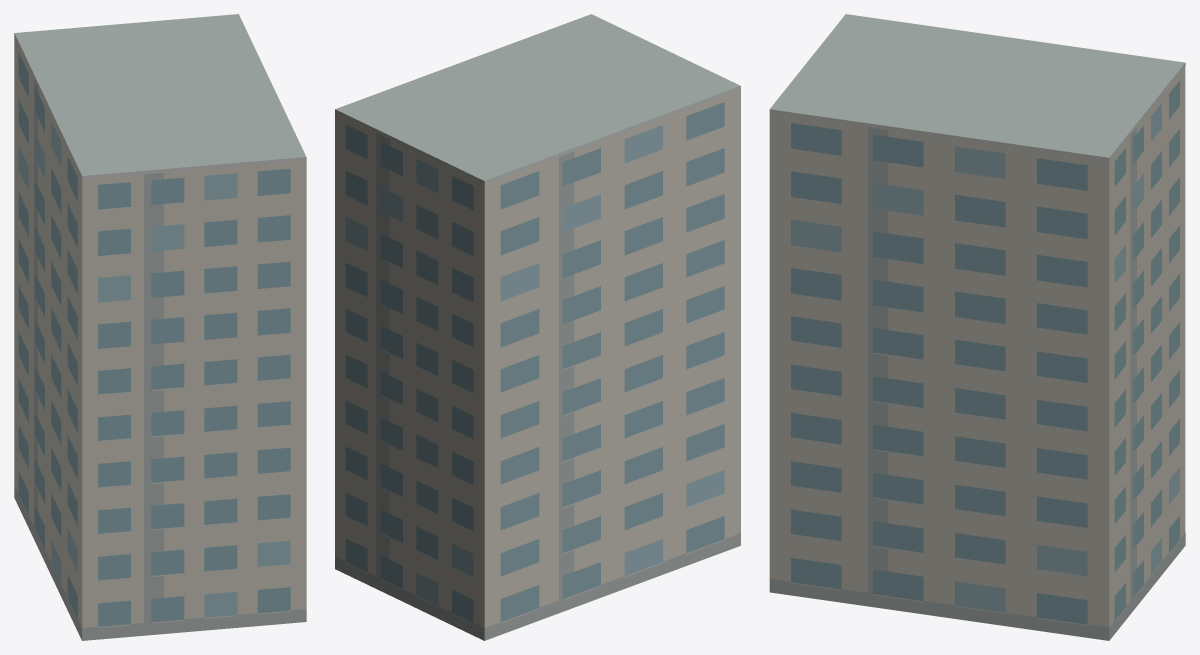
Rendered from residential-0fd62d5b-992b-41f7-acaf-7dd0df842eda.glb.
3 views of the same model, side by side, from view 1: azimuth 30°, elevation 25°; view 2: azimuth 150°, elevation 25°; view 3: azimuth 270°, elevation 25° (orthographic). The views are drawn at different scales.
Parts seen in each view (by area): view 1: residential-0fd62d5b-992b-41f7-acaf-7dd0df842eda.tmp; view 2: residential-0fd62d5b-992b-41f7-acaf-7dd0df842eda.tmp; view 3: residential-0fd62d5b-992b-41f7-acaf-7dd0df842eda.tmp.
Part boxes in pixels (left/top/right/bottom): residential-0fd62d5b-992b-41f7-acaf-7dd0df842eda.tmp: left=14, top=14, right=306, bottom=640; residential-0fd62d5b-992b-41f7-acaf-7dd0df842eda.tmp: left=335, top=14, right=740, bottom=640; residential-0fd62d5b-992b-41f7-acaf-7dd0df842eda.tmp: left=769, top=14, right=1185, bottom=640.
Bounding box in the file's own units: 19.15 × 30 × 23.41.
